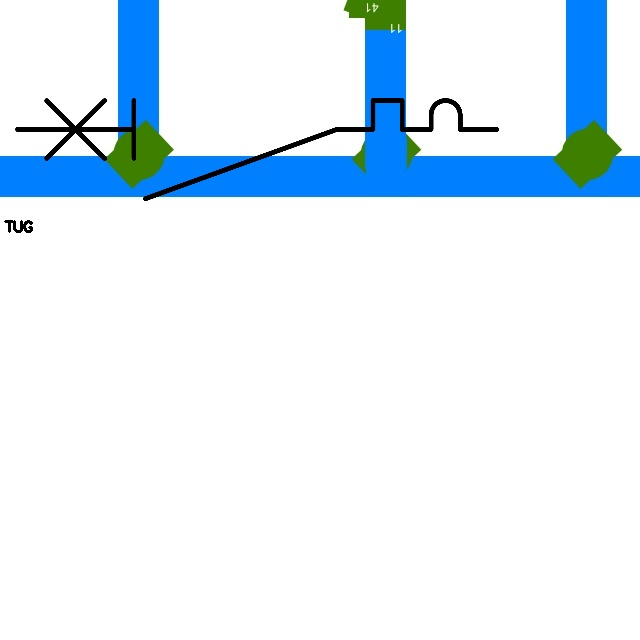interruptor_termomagnetico: (5, 88, 509, 211)
